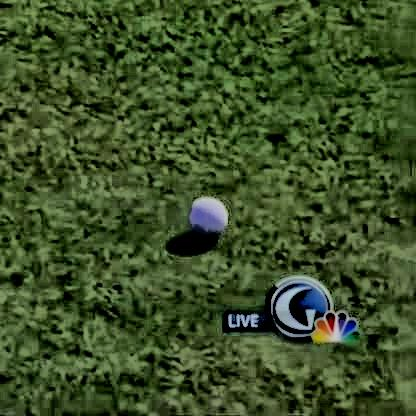golfball: (187, 195, 226, 234)
